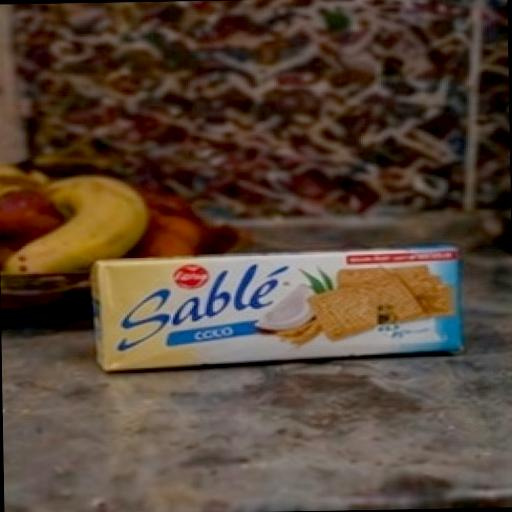sabl: (26, 200, 512, 429)
